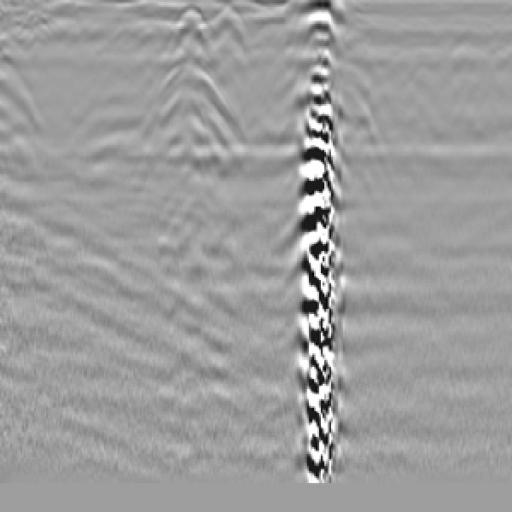metalic: (142, 3, 256, 232)
